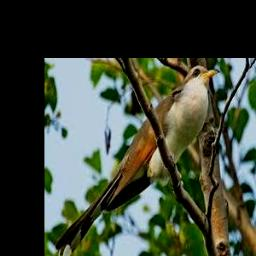Cuckoo: (55, 65, 219, 256)
